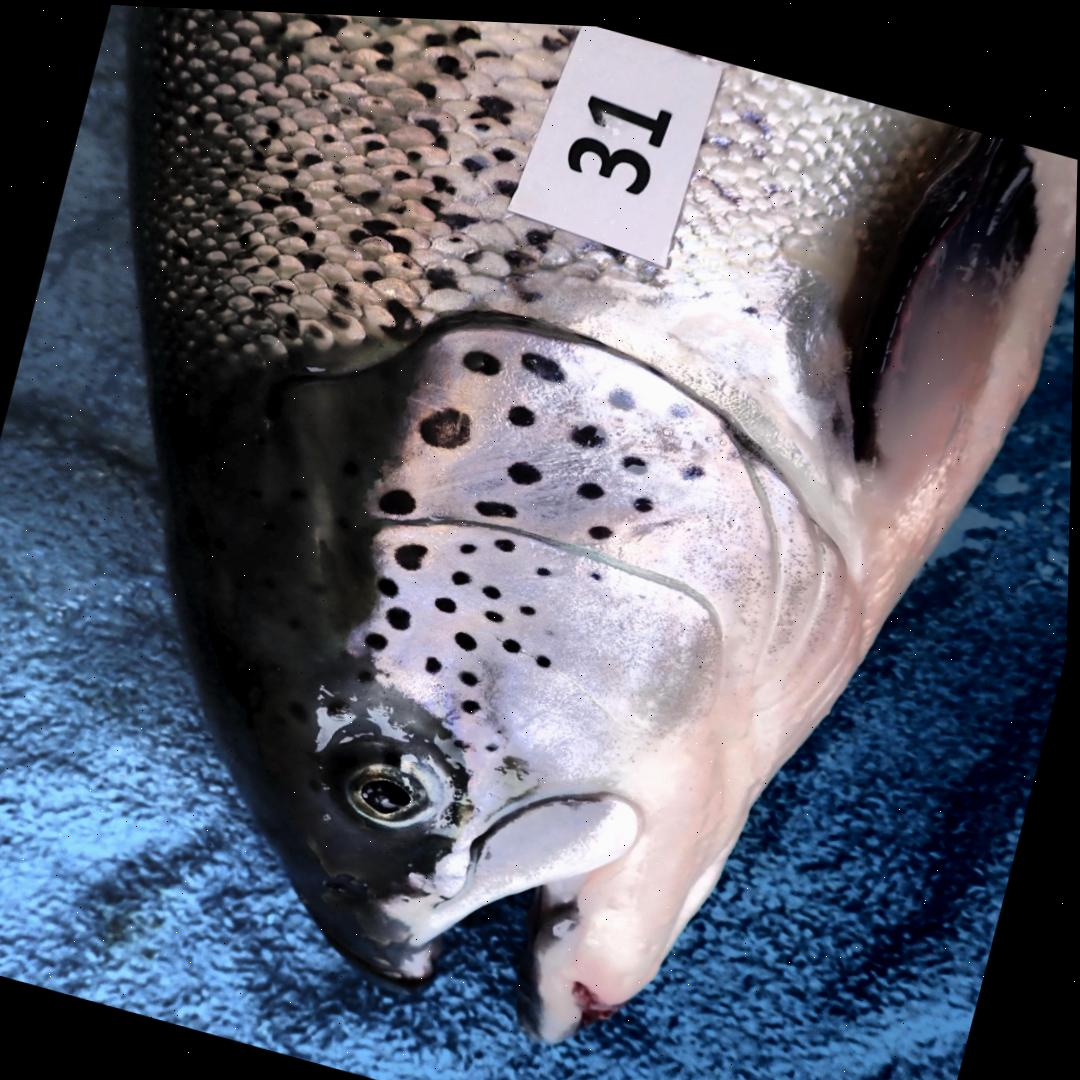spot: (421, 403, 473, 444), (522, 346, 565, 376), (463, 344, 502, 370), (380, 484, 419, 510), (396, 538, 430, 566), (508, 456, 543, 479), (571, 418, 606, 441), (608, 379, 639, 404), (478, 494, 519, 512), (667, 391, 699, 413), (387, 602, 414, 625), (509, 399, 537, 421), (624, 448, 651, 468), (579, 475, 605, 493), (457, 626, 480, 645), (379, 572, 400, 592), (367, 628, 390, 646), (436, 591, 459, 608), (589, 518, 615, 533), (683, 457, 706, 473), (462, 665, 482, 681), (635, 490, 656, 505), (504, 633, 524, 648), (496, 533, 516, 547), (428, 652, 444, 669), (454, 565, 472, 580), (464, 694, 483, 708), (484, 580, 503, 593), (487, 604, 506, 616), (538, 648, 554, 662), (461, 537, 479, 549), (537, 560, 554, 571), (521, 599, 538, 609), (593, 565, 605, 574), (489, 737, 501, 746)
